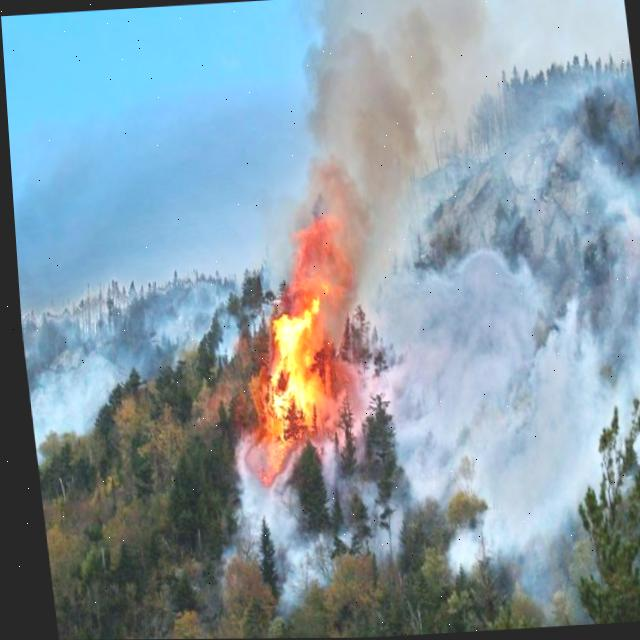fire: (234, 212, 354, 494)
smoke: (294, 0, 640, 626), (7, 85, 294, 323), (18, 274, 271, 452), (229, 457, 320, 603)
